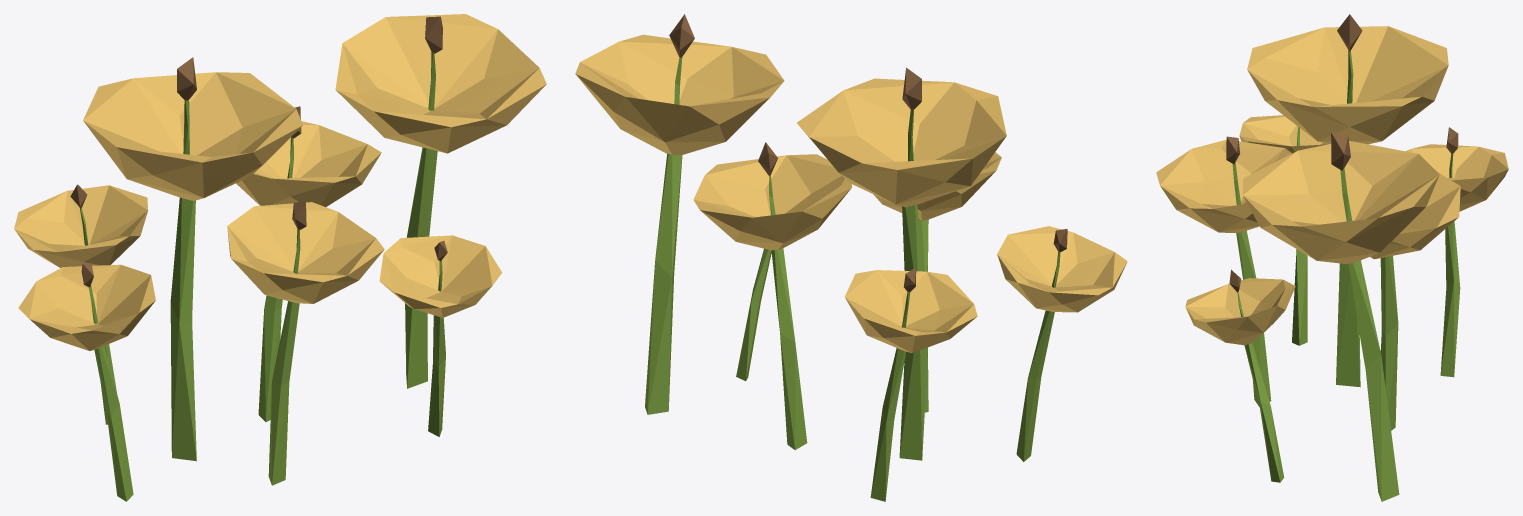
The model's file is Flower_04.glb.
3 renders of one model, left to right at view 1: azimuth 30°, elevation 25°; view 2: azimuth 150°, elevation 25°; view 3: azimuth 270°, elevation 25°, orthographic. The views are drawn at different scales.
Parts seen in each view (by area): view 1: Flower_04_LOD0; view 2: Flower_04_LOD0; view 3: Flower_04_LOD0.
Boxes of the visible parts, <box> form: Flower_04_LOD0: <box>14,14,546,501</box>; Flower_04_LOD0: <box>575,14,1127,501</box>; Flower_04_LOD0: <box>1156,14,1508,501</box>.
Size of what is drawn, in the model's own units: 0.2602 by 0.1952 by 0.1667.
Materials: 1 (1 with a texture image).
